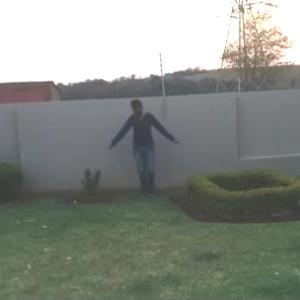land: (104, 91, 183, 202)
